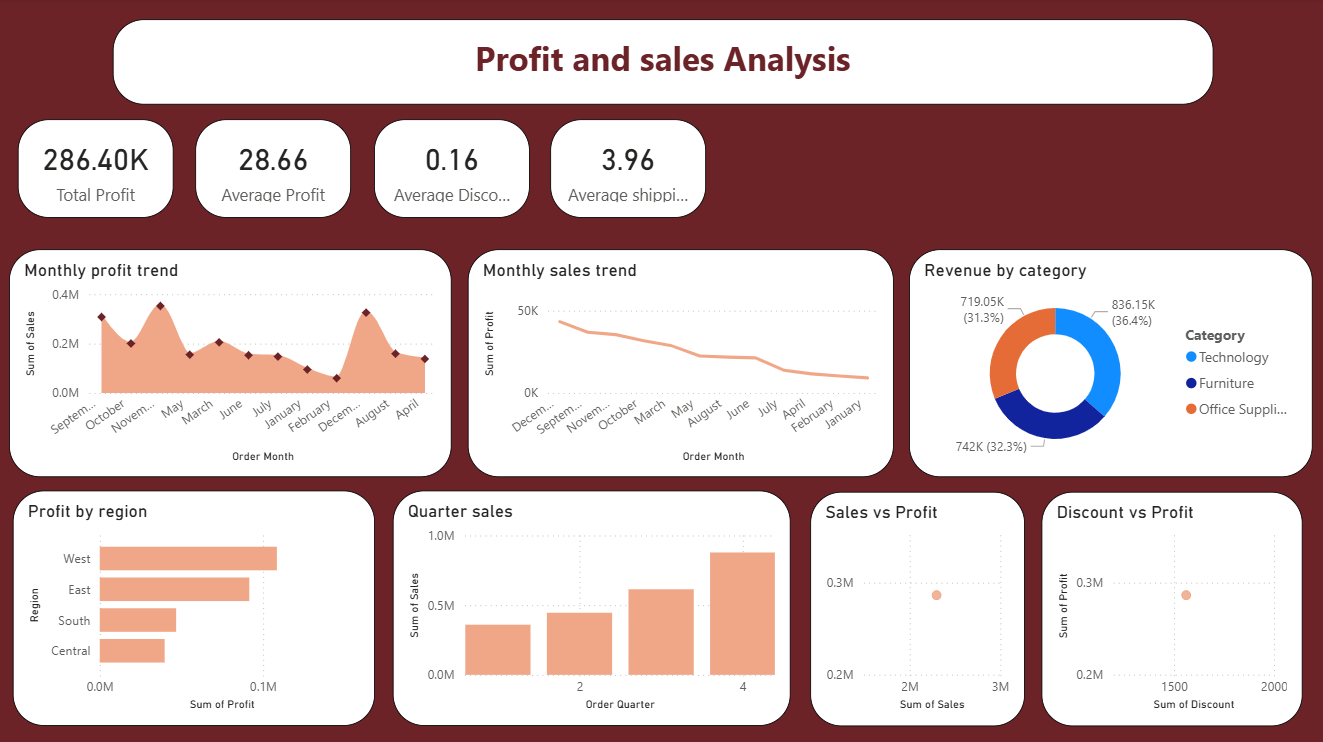

This screenshot's page, from the dashboard's own definition file:
{"tool":"powerbi","page":{"name":"Profit and sales Analysis","canvas":[1280,720],"ordinal":3},"visuals":[{"type":"card","fields":{"Values":["superstore.Total Profit"]},"box":[17.5,117.5,150,95],"z":0},{"type":"card","fields":{"Values":["superstore.Average Profit"]},"box":[190,117.5,150,95],"z":1},{"type":"card","fields":{"Values":["superstore.Average Discount"]},"box":[362.5,117.5,150,95],"z":2},{"type":"card","fields":{"Values":["superstore.Average shipping days"]},"box":[532.5,117.5,150,95],"z":3},{"type":"scatterChart","title":"Discount vs Profit","fields":{"Y":["Sum(superstore.Profit)"],"X":["Sum(superstore.Discount)"]},"box":[1005.8,476.8,252.2,226.1],"z":5},{"type":"scatterChart","title":"Sales vs Profit","fields":{"X":["Sum(superstore.Sales)"],"Y":["Sum(superstore.Profit)"]},"box":[782.6,476.8,207.2,226.1],"z":6},{"type":"lineChart","title":"Monthly profit trend","fields":{"Category":["superstore.Order Month"],"Y":["Sum(superstore.Sales)"]},"box":[10.1,242,427.5,220.3],"z":7},{"type":"lineChart","title":"Monthly sales trend","fields":{"Category":["superstore.Order Month"],"Y":["Sum(superstore.Profit)"]},"box":[452.2,242,411.6,220.3],"z":8},{"type":"clusteredColumnChart","title":"Quarter sales","fields":{"Category":["superstore.Order Quarter"],"Y":["Sum(superstore.Sales)"]},"box":[379.7,475.4,384.1,227.5],"z":9},{"type":"donutChart","title":"Revenue by category","fields":{"Category":["superstore.Category"],"Y":["Sum(superstore.Sales)"]},"box":[878.3,242,389.9,220.3],"z":10},{"type":"clusteredBarChart","title":"Profit by region","fields":{"Category":["superstore.Region"],"Y":["Sum(superstore.Profit)"]},"box":[13,475.4,349.3,227.5],"z":11},{"type":"textbox","box":[110.1,20.3,1062.3,82.6],"z":12}]}

Visuals, with their boxes in screenshot pixels (x1, y1, x2, y2), scaled from the page's 1280x720 canvas onto the 1323x742 screenshot:
card - superstore.Total Profit: box=[18, 121, 173, 219]
card - superstore.Average Profit: box=[196, 121, 351, 219]
card - superstore.Average Discount: box=[375, 121, 530, 219]
card - superstore.Average shipping days: box=[550, 121, 705, 219]
"Discount vs Profit" scatterChart: box=[1040, 491, 1300, 724]
"Sales vs Profit" scatterChart: box=[809, 491, 1023, 724]
"Monthly profit trend" lineChart: box=[10, 249, 452, 476]
"Monthly sales trend" lineChart: box=[467, 249, 893, 476]
"Quarter sales" clusteredColumnChart: box=[392, 490, 789, 724]
"Revenue by category" donutChart: box=[908, 249, 1311, 476]
"Profit by region" clusteredBarChart: box=[13, 490, 374, 724]
textbox: box=[114, 21, 1212, 106]
